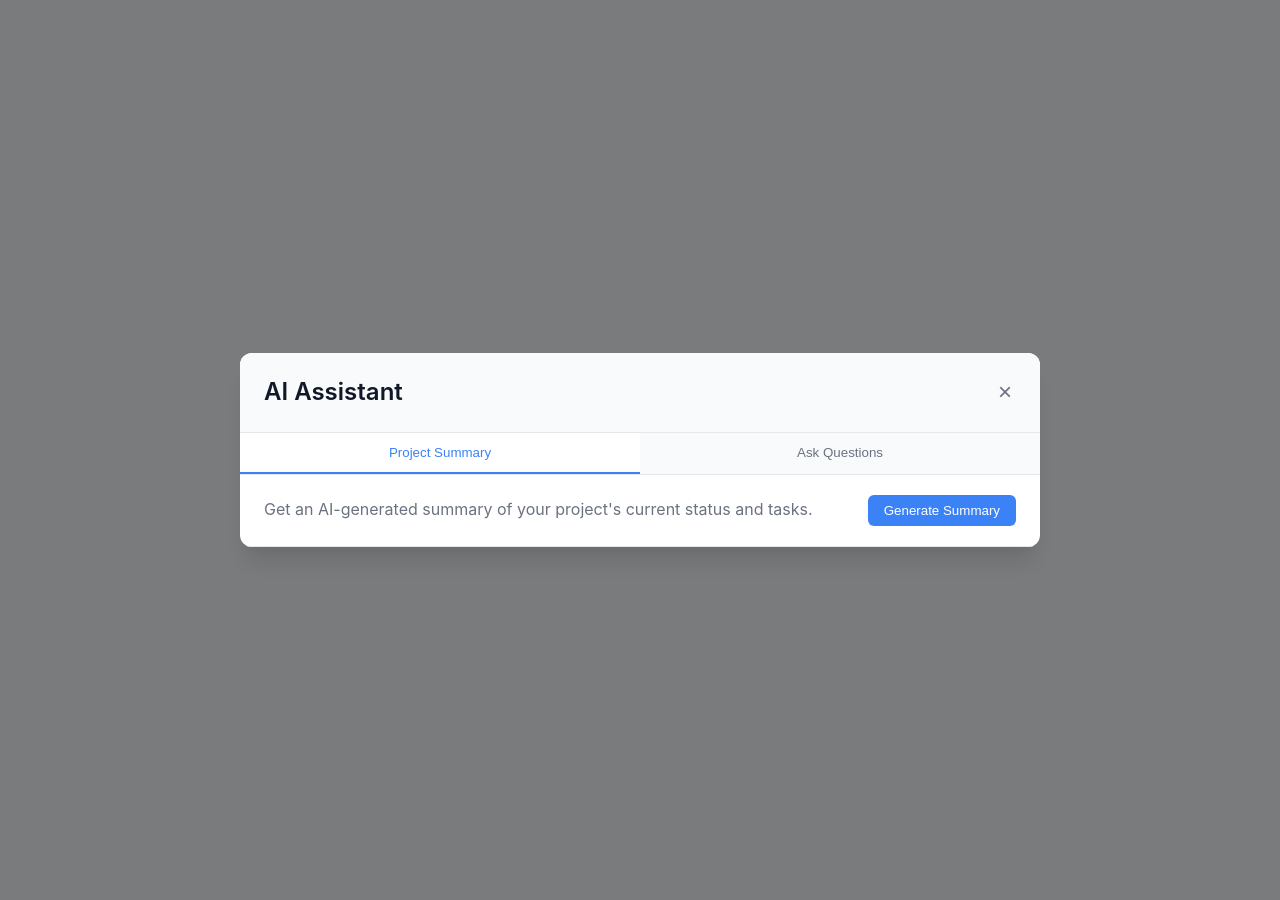
Test: AiAssistant Component › Project Summary Tab › generates summary successfully
The image size is (1280, 900).
What coordinates should you click on to do the following:
click the button "Generate Summary"
I would click on:
 (942, 510)
Its box is x1=868 y1=495 x2=1016 y2=526.
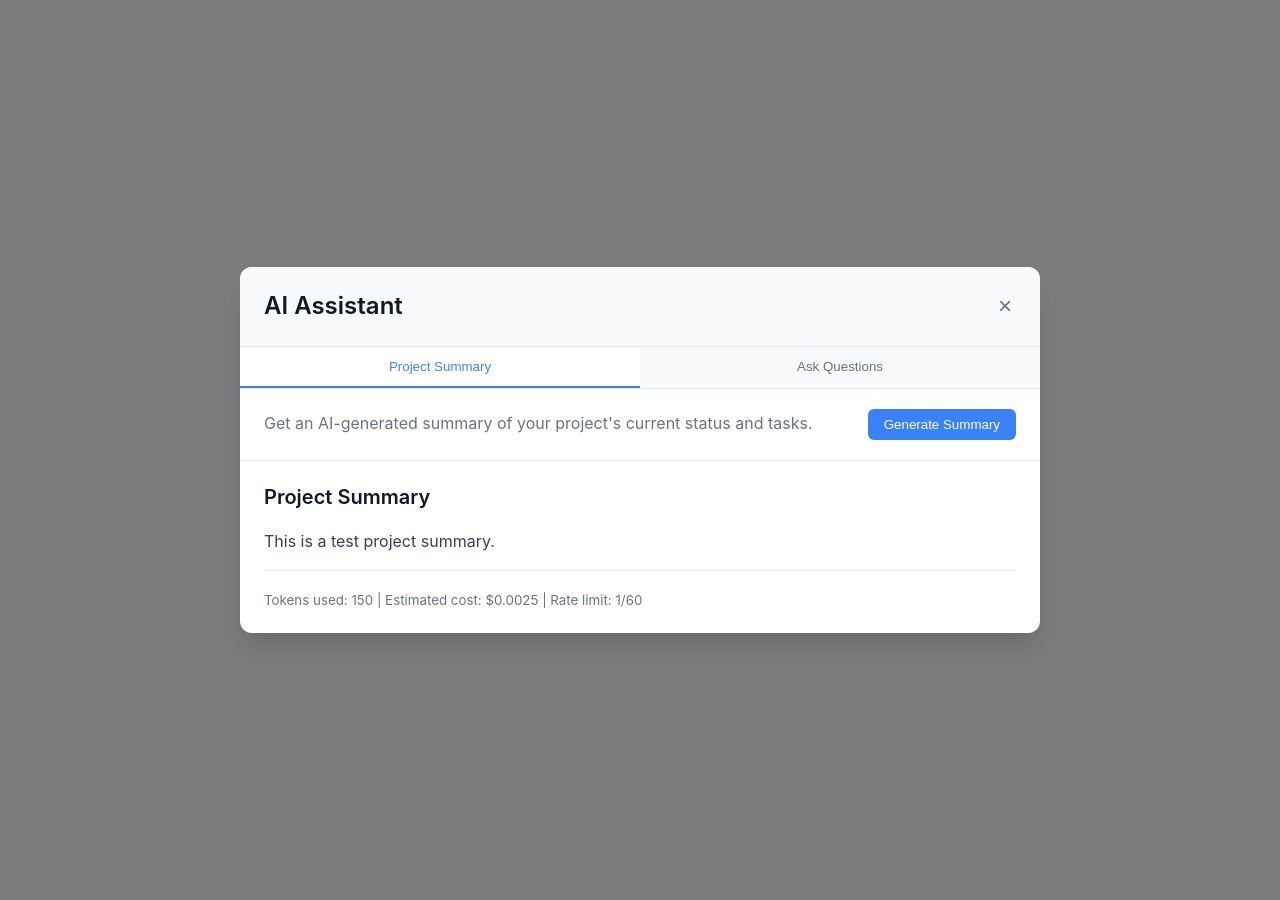
Result: the text "This is a test project summary." is shown at x1=264 y1=531 x2=495 y2=551
Result: the text "Tokens used: 150" is shown at x1=264 y1=592 x2=373 y2=608
Result: the text "| Estimated cost: $0.0025" is shown at x1=373 y1=592 x2=538 y2=608
